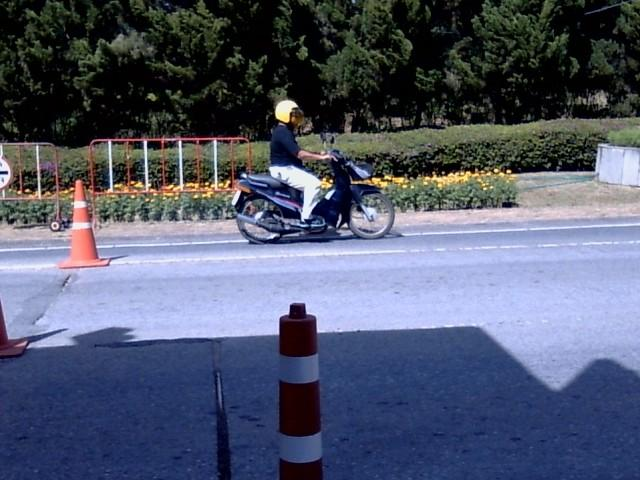helmet: (274, 99, 303, 126)
motor: (231, 150, 394, 243)
person: (270, 100, 331, 227)
